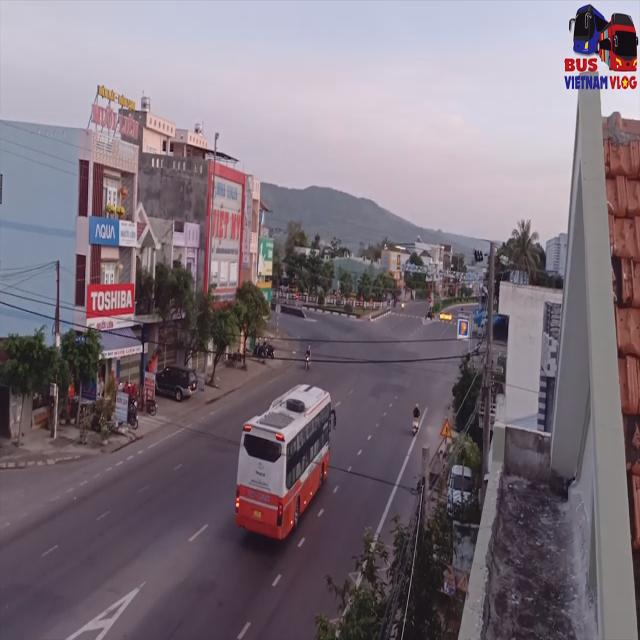car: (233, 382, 336, 545)
motorbike: (411, 403, 423, 436)
truck: (588, 1, 636, 388)
